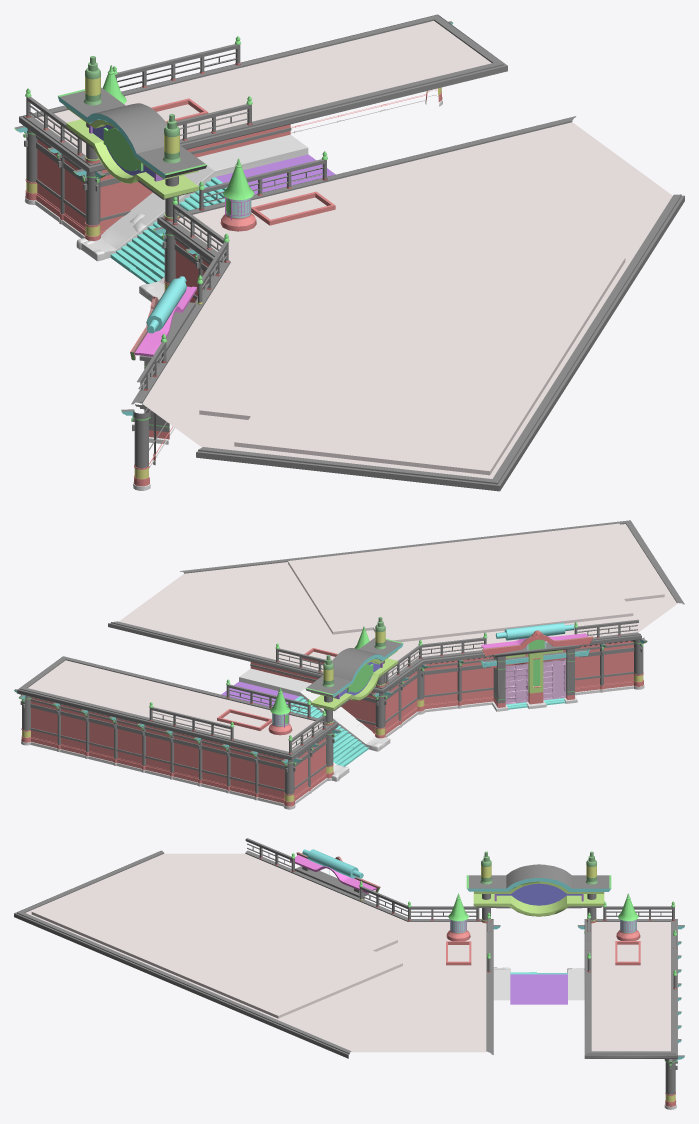
The model's file is SM_ENV_LKNVLD_VRArena_Front_Lod2.gltf.
3 renders of one model, top to bottom at view 1: azimuth 30°, elevation 25°; view 2: azimuth 150°, elevation 25°; view 3: azimuth 270°, elevation 25°, orthographic. The views are drawn at different scales.
Parts seen in each view (by area): view 1: SM_ENV_LKNVLD_VRArena_Front_Lod2; view 2: SM_ENV_LKNVLD_VRArena_Front_Lod2; view 3: SM_ENV_LKNVLD_VRArena_Front_Lod2.
Part boxes in pixels (<box>): SM_ENV_LKNVLD_VRArena_Front_Lod2: <box>14,14,684,491</box>; SM_ENV_LKNVLD_VRArena_Front_Lod2: <box>14,520,684,809</box>; SM_ENV_LKNVLD_VRArena_Front_Lod2: <box>14,838,684,1109</box>.
Size of the model in its own units: 49.16 by 13.62 by 66.23.
